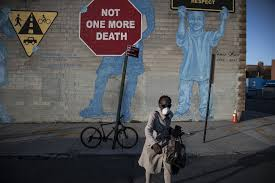mask: (154, 92, 174, 116)
